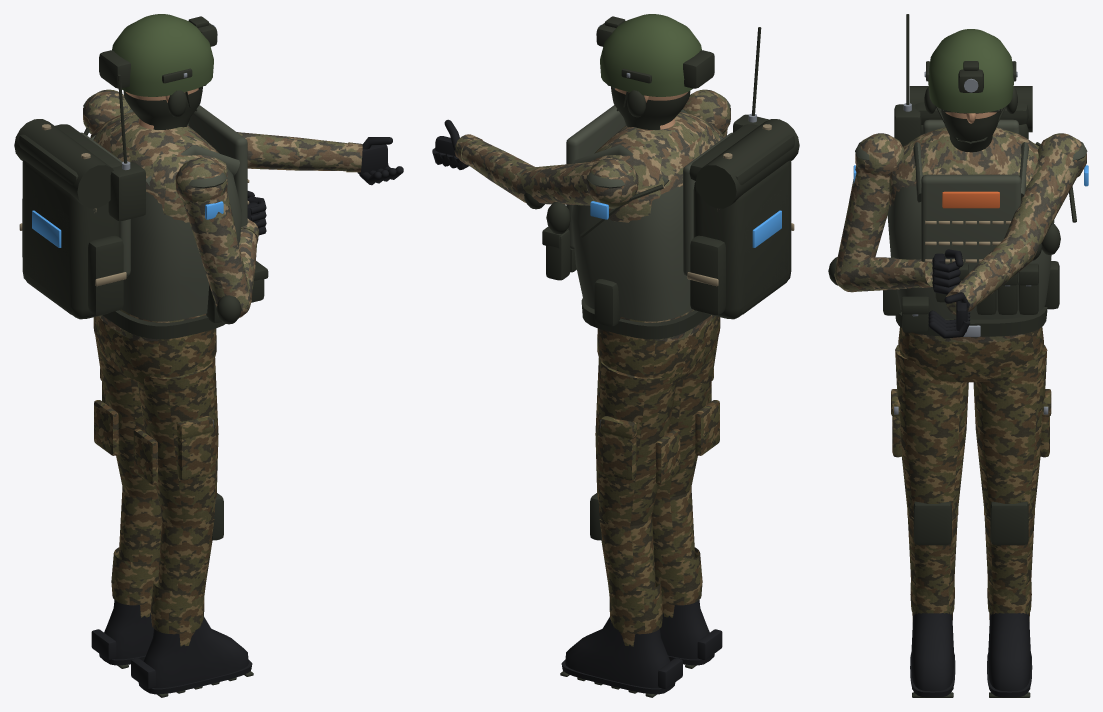
Rendered from soldier.glb.
3 renders of one model, left to right at view 1: azimuth 30°, elevation 25°; view 2: azimuth 150°, elevation 25°; view 3: azimuth 270°, elevation 25°, orthographic. The views are drawn at different scales.
Parts seen in each view (by area): view 1: soldier_body, legR, legL, armL; view 2: soldier_body, legL, legR, armL; view 3: soldier_body, legR, legL, armL.
Boxes of the visible parts, x1,y1,x2,y2 form: soldier_body: [14, 14, 268, 384]; legR: [131, 357, 253, 697]; legL: [91, 336, 161, 668]; armL: [83, 89, 403, 185]; soldier_body: [542, 14, 799, 384]; legL: [560, 357, 682, 697]; legR: [652, 336, 722, 668]; armL: [432, 119, 638, 219]; soldier_body: [828, 14, 1076, 382]; legR: [891, 344, 968, 697]; legL: [973, 345, 1051, 697]; armL: [928, 133, 1088, 338].
Bounding box in the file's own units: 0.9907 × 1.82 × 0.678.
12 materials, 2 textured.
